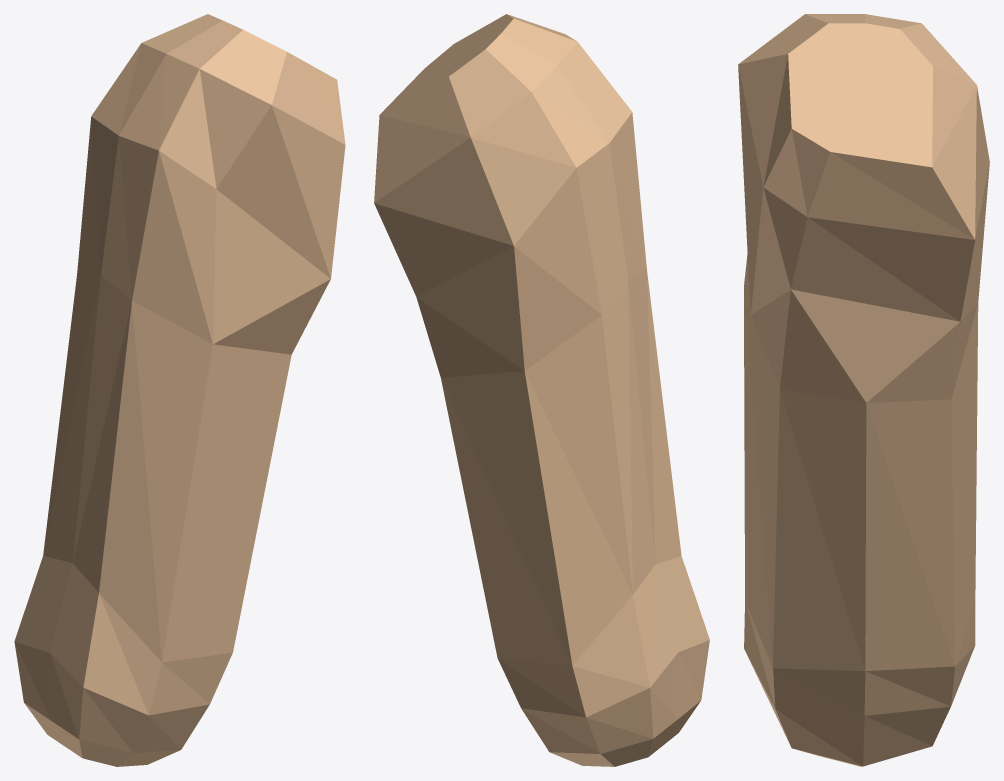
The model's file is RFing20_mesh.dae.
The picture shows the model from 3 angles, left to right: view 1: azimuth 30°, elevation 25°; view 2: azimuth 150°, elevation 25°; view 3: azimuth 270°, elevation 25°; orthographic projection. The views are drawn at different scales.
Parts seen in each view (by area): view 1: RFing20; view 2: RFing20; view 3: RFing20.
Part boxes in pixels (x1,y1,x2,y2): RFing20: [14, 14, 345, 766]; RFing20: [374, 14, 709, 766]; RFing20: [738, 14, 989, 766].
Size of the model in its own units: 0.0285 by 0.0708 by 0.0204.
